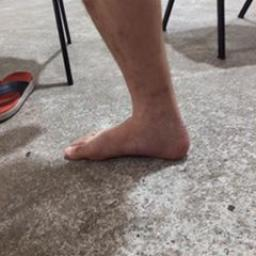Medial View -Right Foot-: (58, 85, 200, 175)
